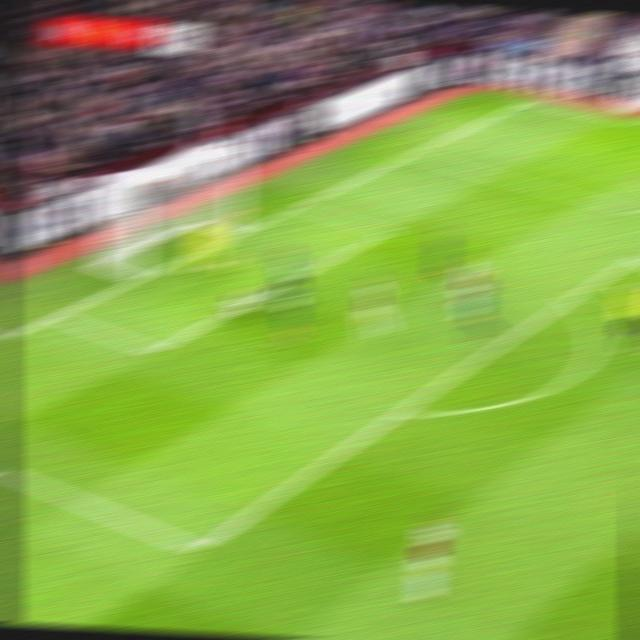bigarea_bottom_inner: (179, 534, 218, 568)
bigarea_top_outter: (398, 147, 423, 161)
bottom_arc_area_intersection: (385, 402, 416, 424)
corner: (516, 95, 543, 104)
smallarea_bottom_inner: (138, 336, 170, 364)
smallarea_bottom_outter: (40, 304, 71, 326)
smallarea_top_inner: (372, 222, 396, 240)
smallarea_top_outter: (286, 197, 312, 215)
top_arc_area_intersection: (558, 290, 583, 308)
